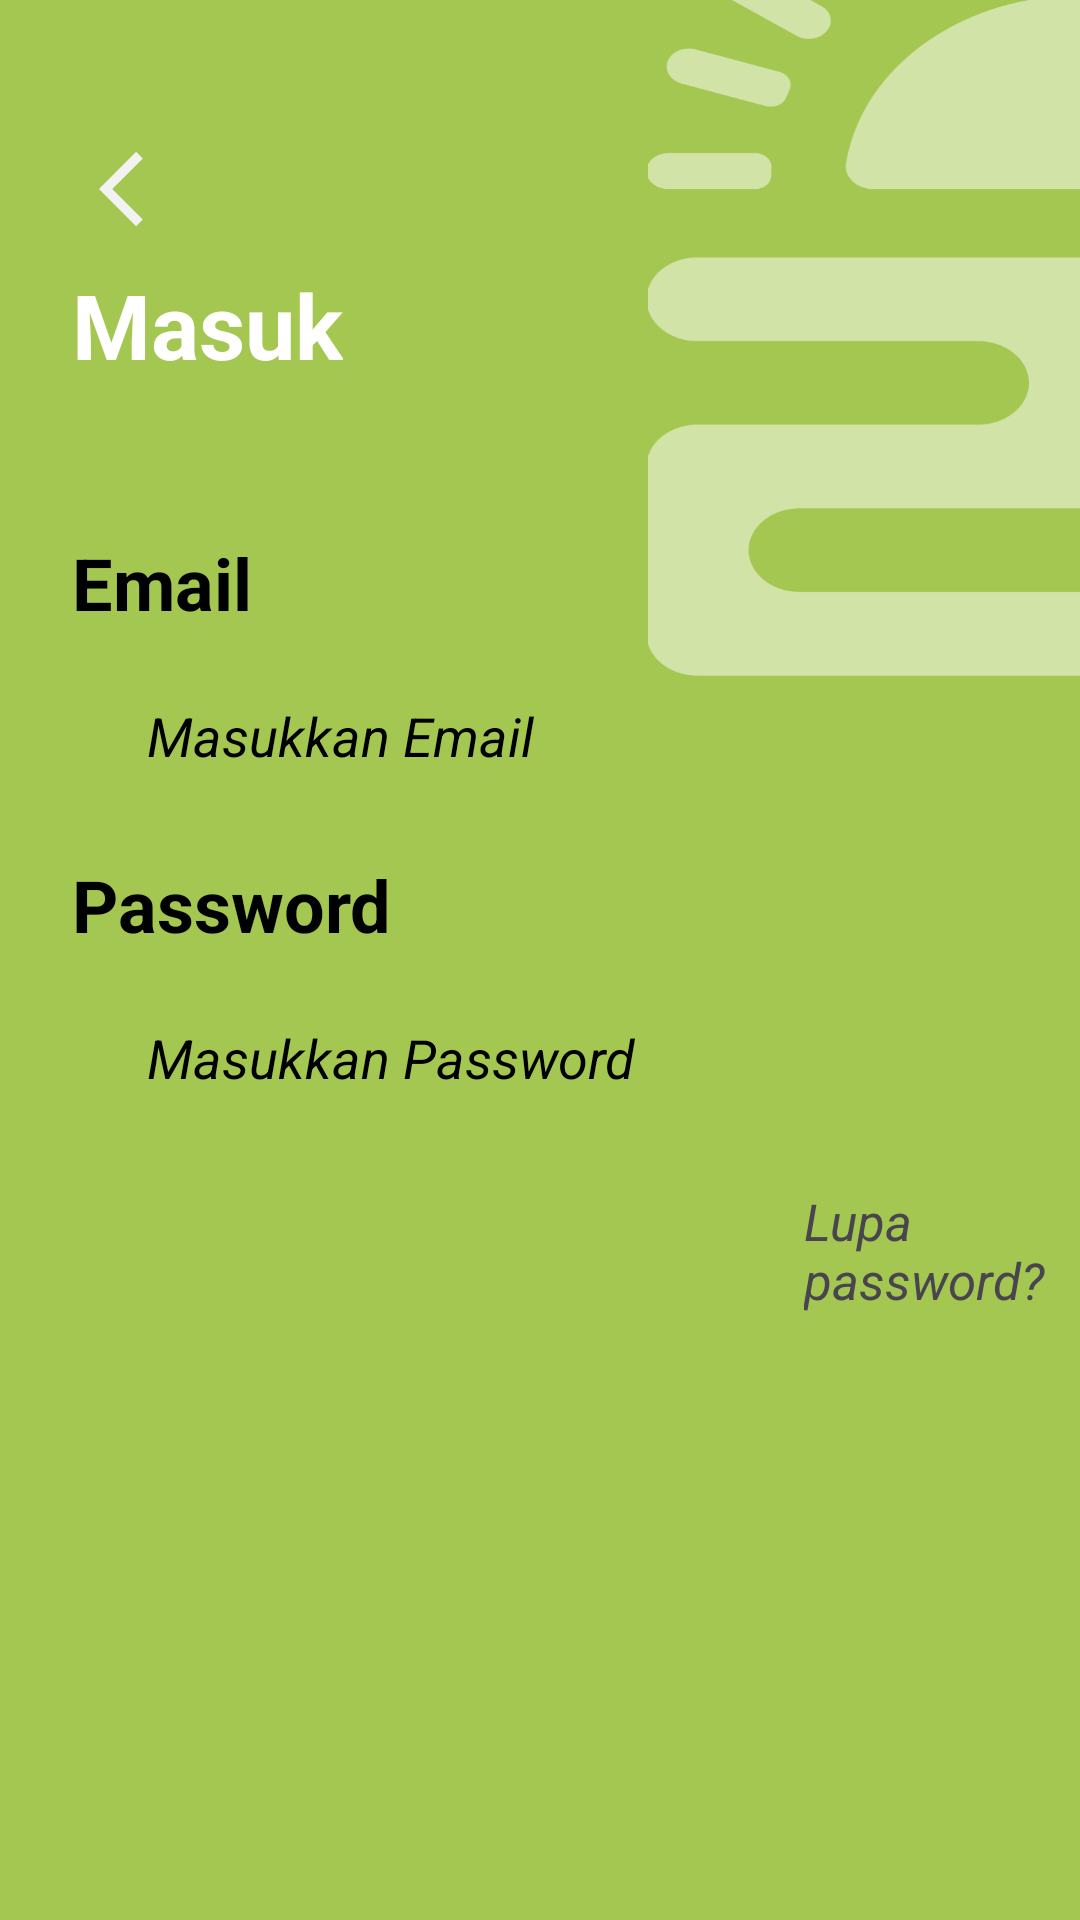

Point at icon controls on the screen. Image size 1080 × 1920, points as (x=x, y=y).
arrow back: (x=121, y=189)
